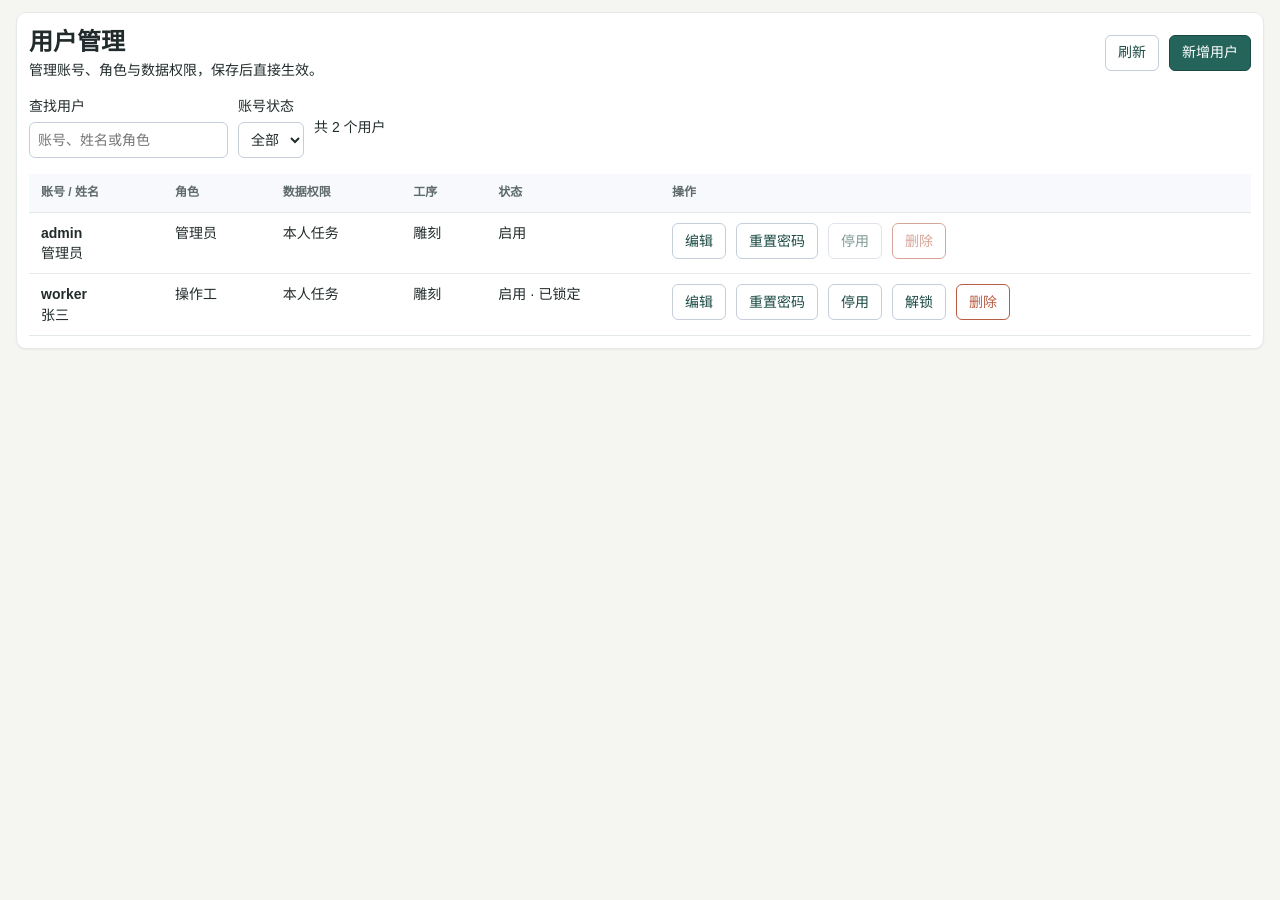
it: 用户管理 › 查询用户并直接创建，角色权限由服务端目录展示
Type "张三" into the field named "查找用户" at (128, 140), box [29, 122, 228, 158]
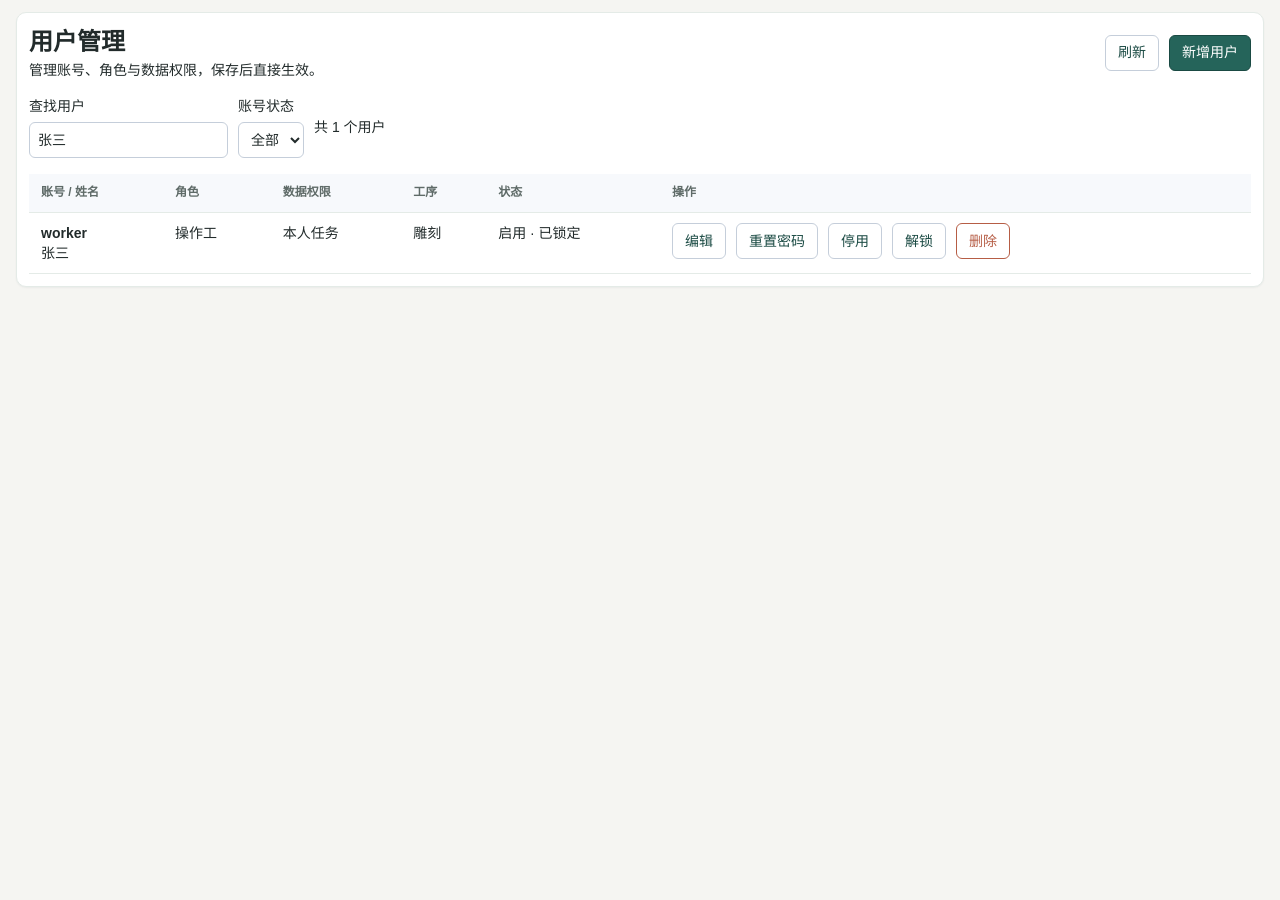
Click the button "新增用户" at (1210, 52), box [1169, 34, 1251, 70]
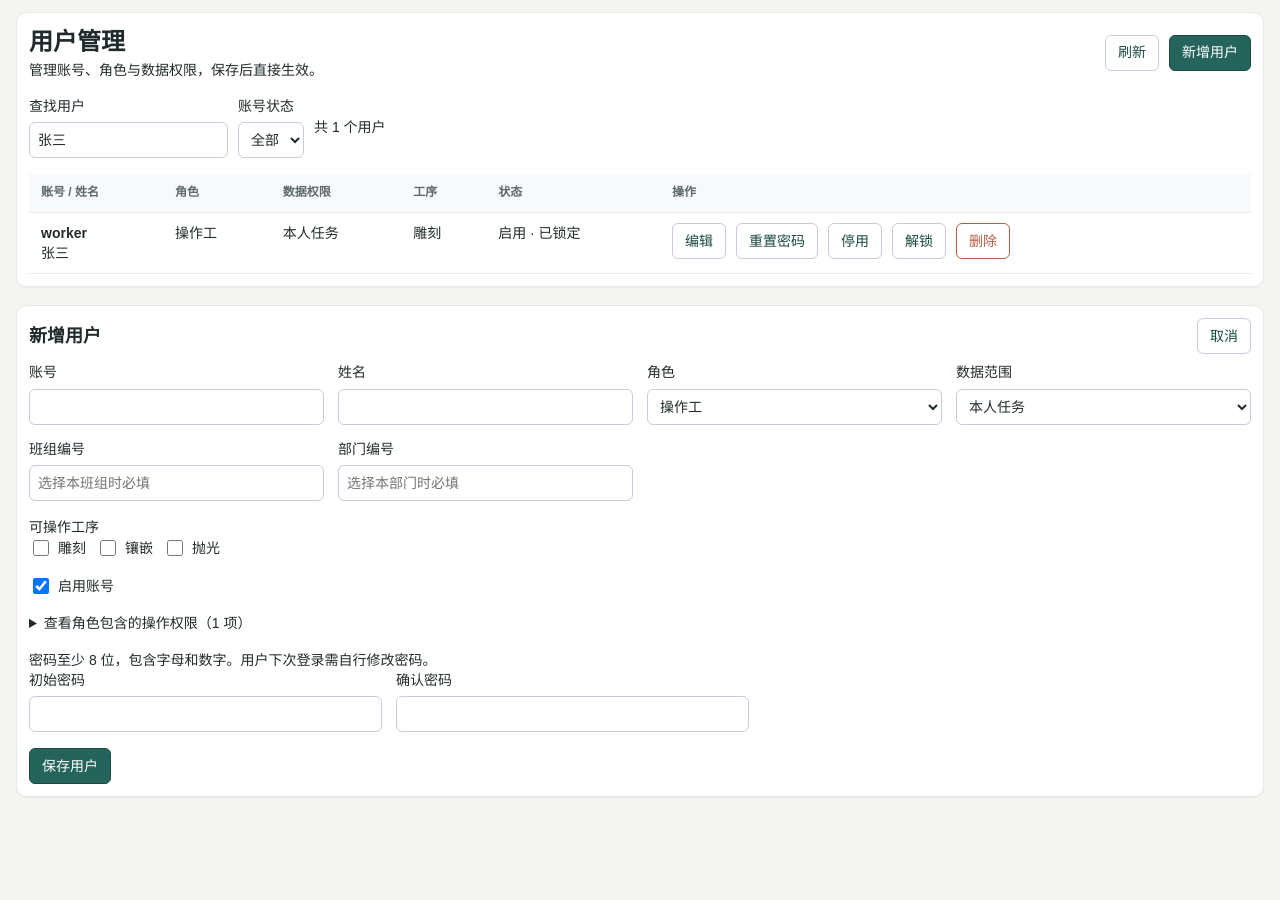
Type "new-user" into the field named "用户账号" at (176, 407), box [29, 389, 324, 425]
Type "李四" into the field named "用户姓名" at (486, 407), box [338, 389, 633, 425]
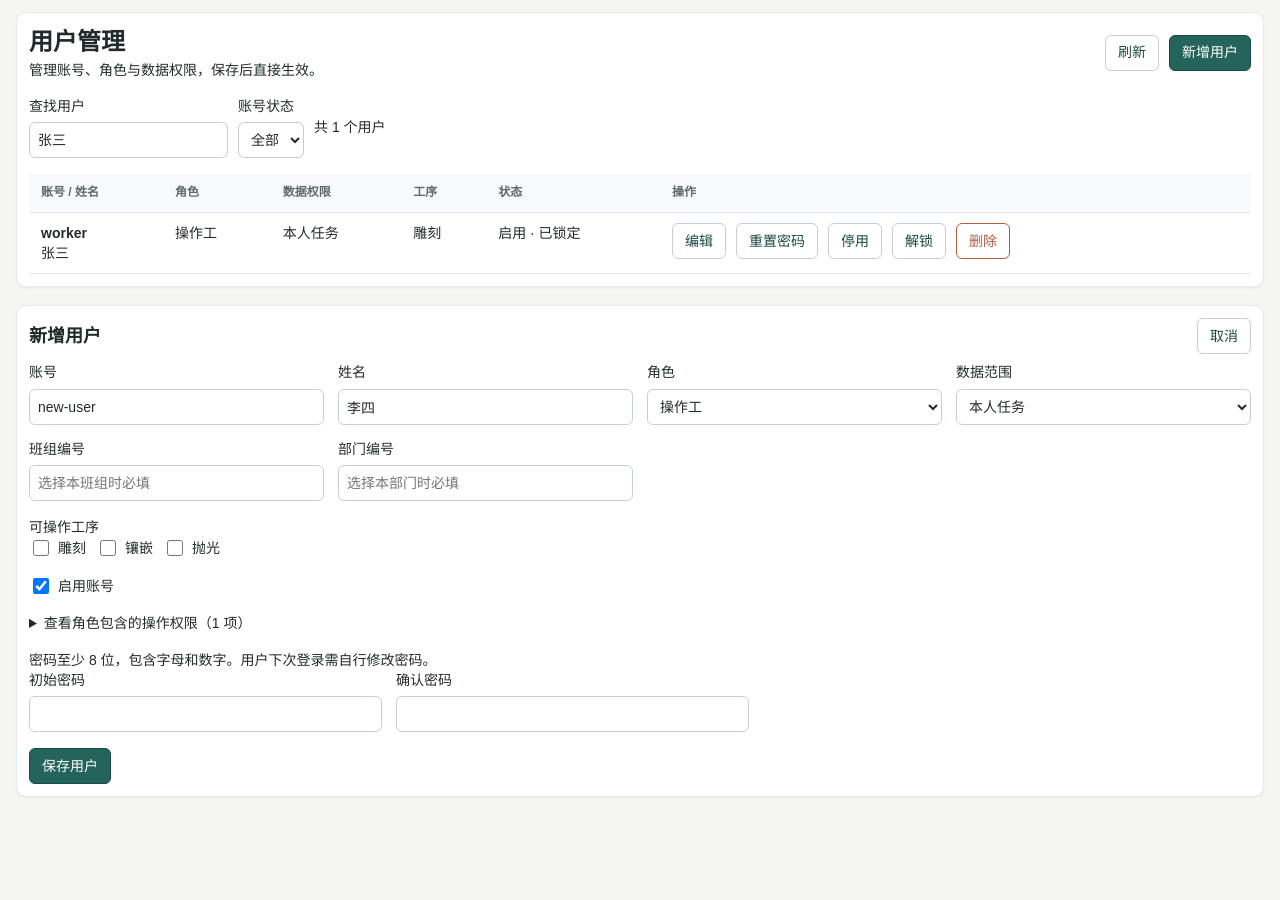
Type "TemporaryPass2026" into the password field named "用户密码" at (206, 714), box [29, 696, 382, 732]
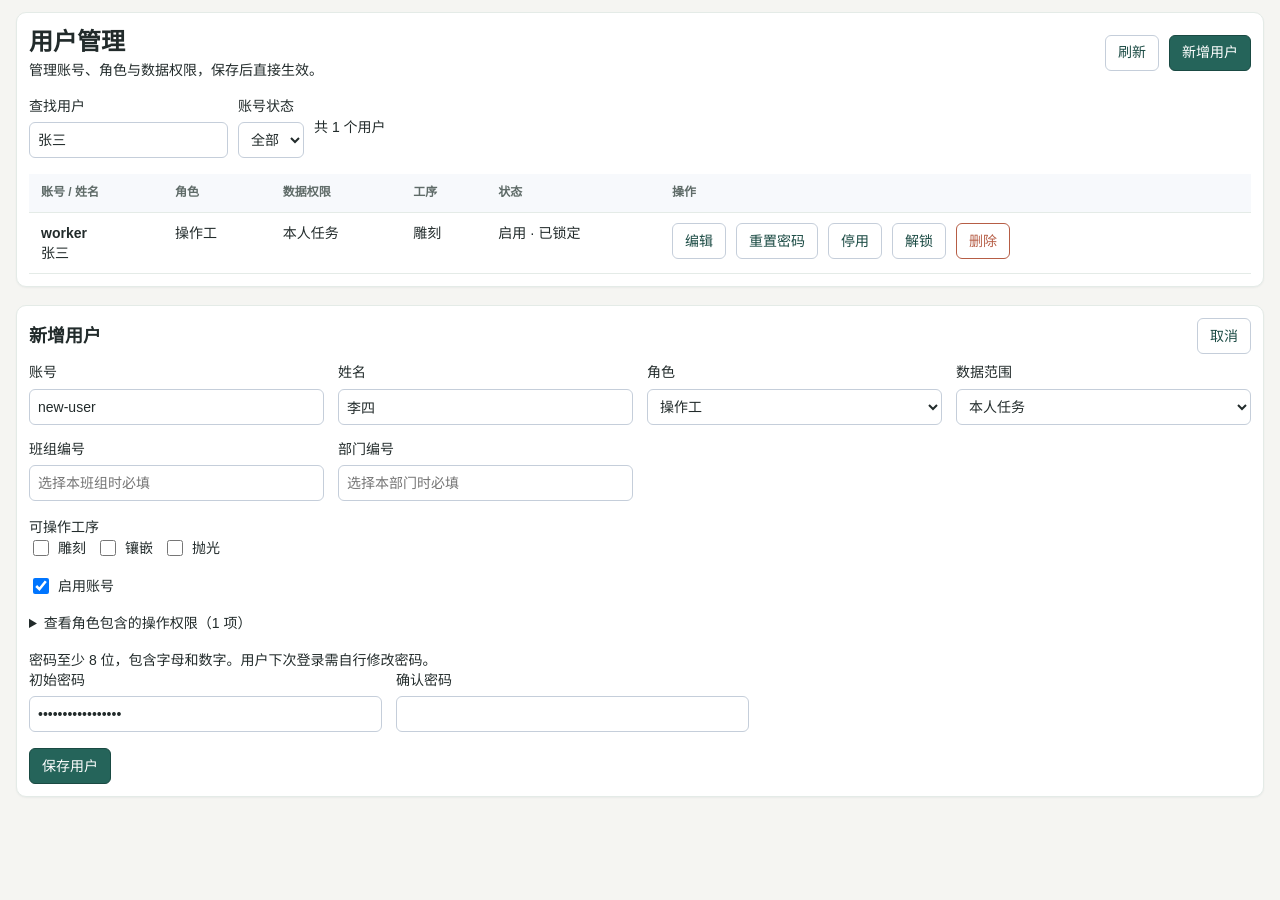
Type "TemporaryPass2026" into the password field named "确认用户密码" at (572, 714), box [396, 696, 749, 732]
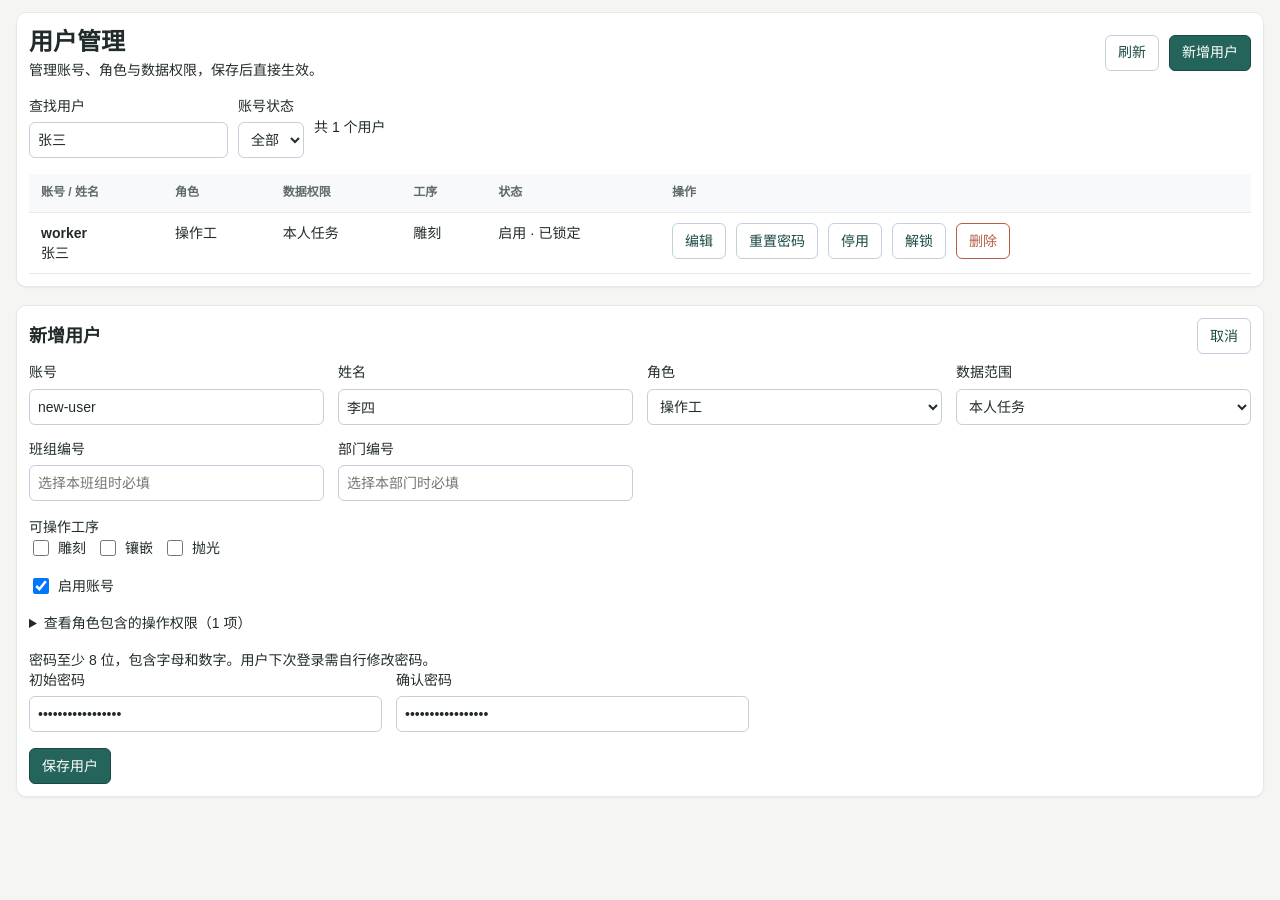
Submit the form, box [29, 362, 1251, 784]
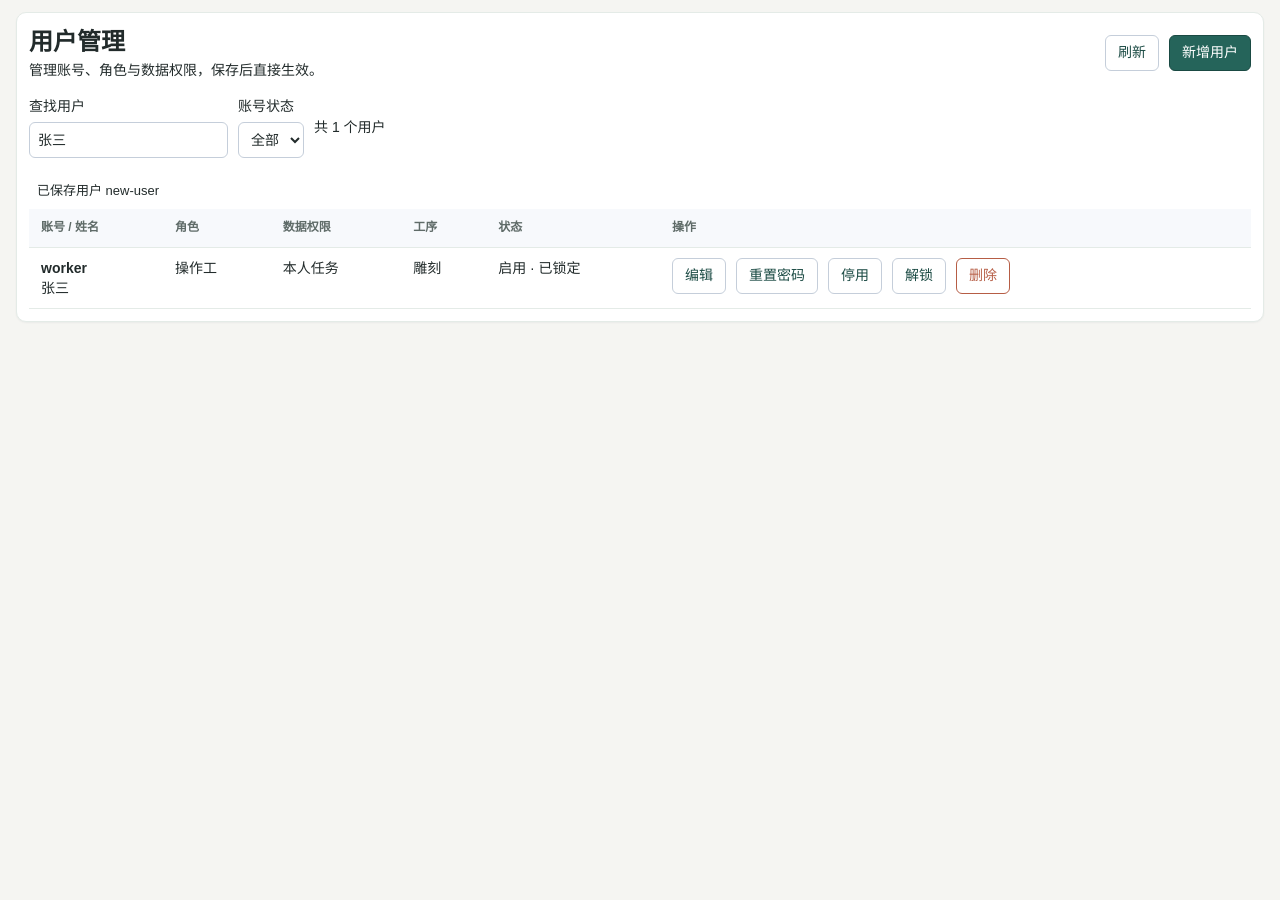
Result: the text "已保存用户 new-user" is shown at [37, 183, 159, 198]
